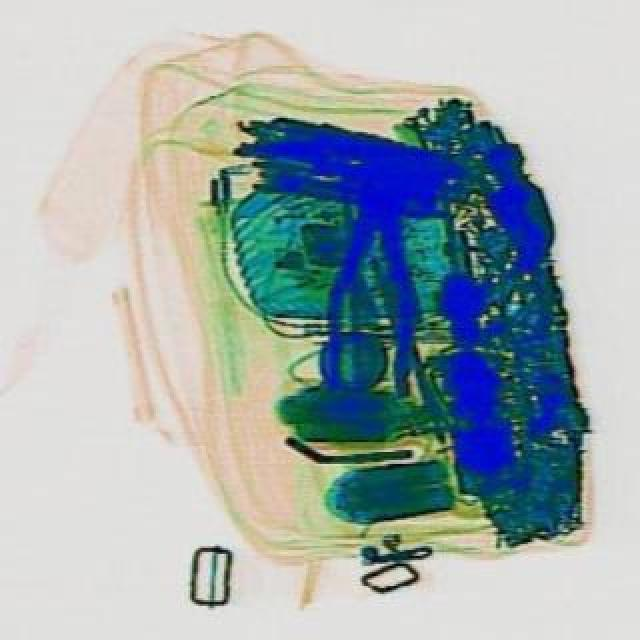wrench: (316, 162, 426, 394)
